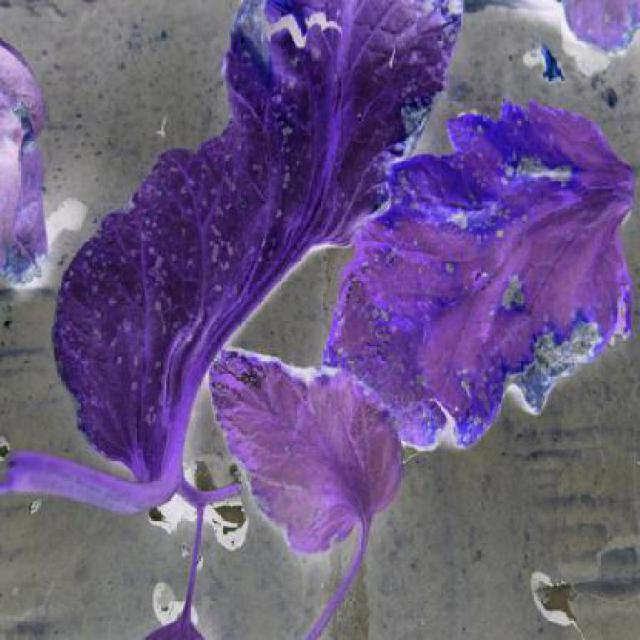Tomato late blight leaf: (310, 117, 636, 446)
